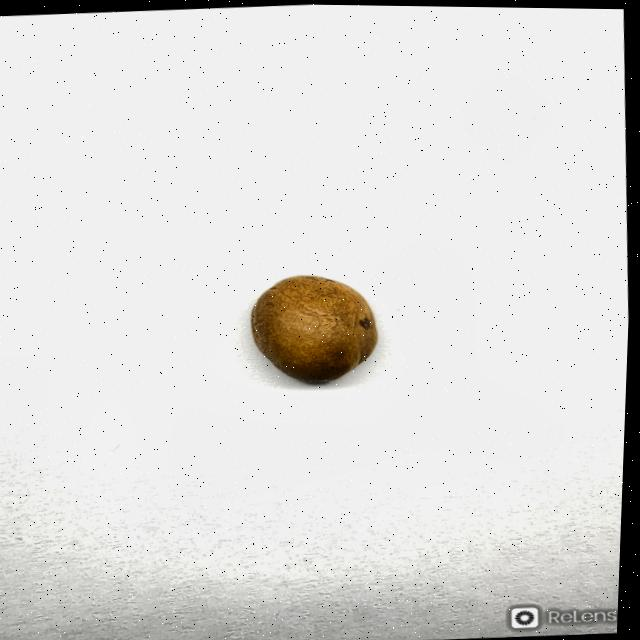Quaker: (251, 270, 382, 385)
